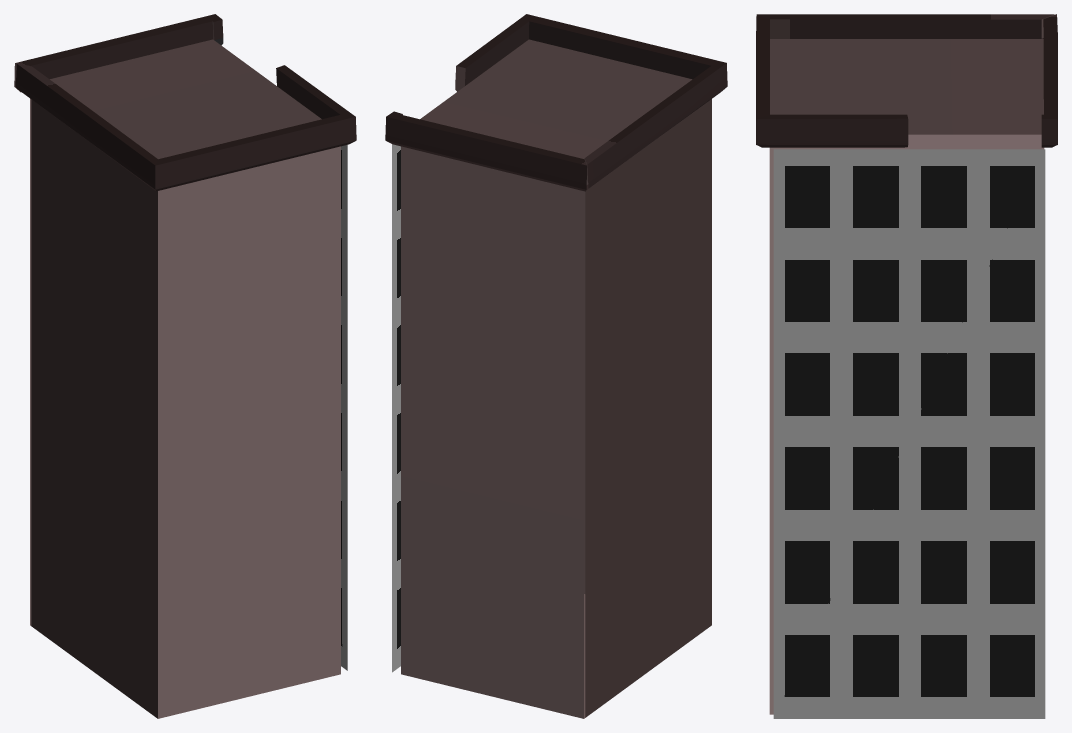
Rendered from building(stairs)_redish.fbx.
3 renders of one model, left to right at view 1: azimuth 30°, elevation 25°; view 2: azimuth 150°, elevation 25°; view 3: azimuth 270°, elevation 25°, orthographic. The views are drawn at different scales.
Parts seen in each view (by area): view 1: polySurface524; view 2: polySurface524; view 3: polySurface524.
Part boxes in pixels (box(x1,y1,x2,y2)): polySurface524: box(14, 14, 356, 718); polySurface524: box(385, 14, 727, 718); polySurface524: box(756, 14, 1057, 718).
Size of the model in its own units: 56.85 by 151 by 68.88.
